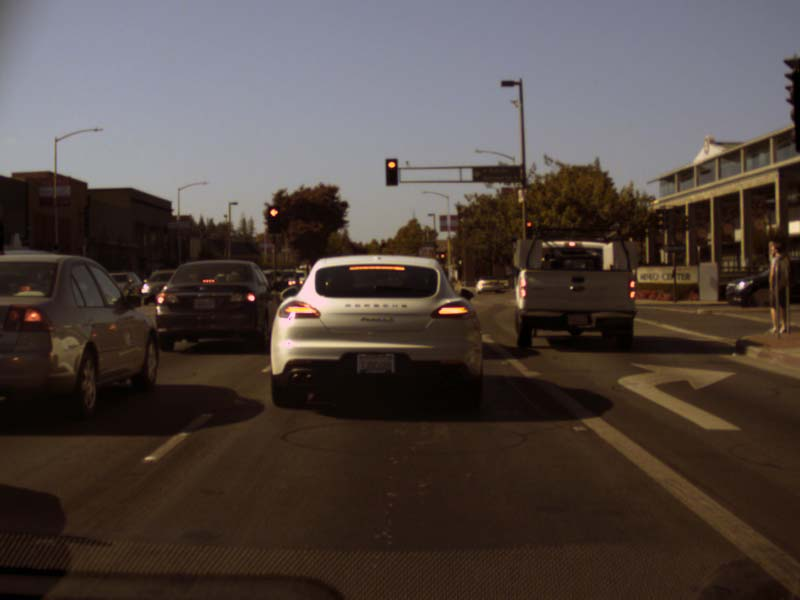Red: (266, 205, 280, 234), (384, 158, 398, 186), (525, 220, 531, 237), (439, 253, 445, 261)
